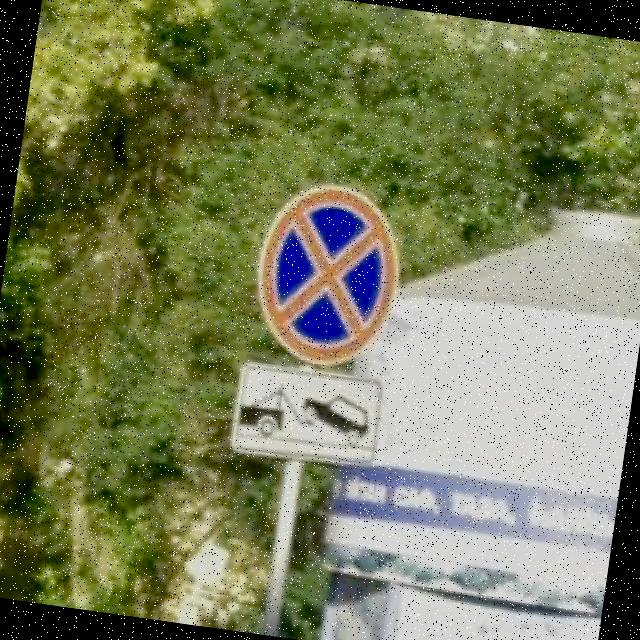Zakaz zatrzymywania sie: (242, 172, 413, 378)
